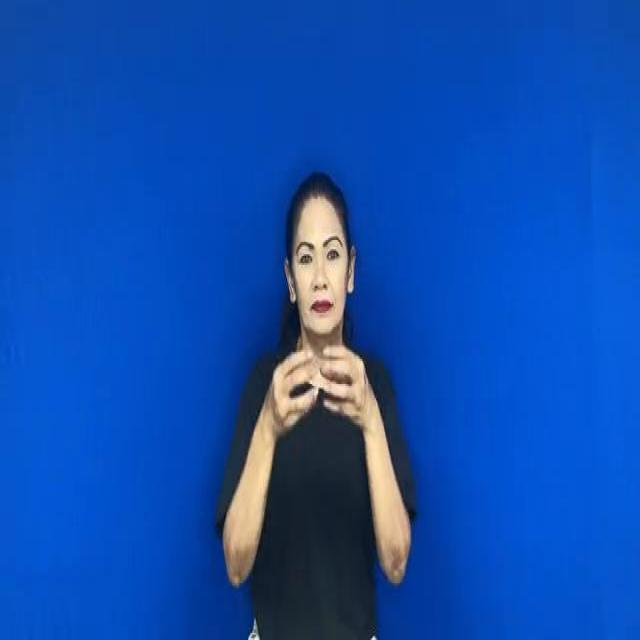egg: (261, 344, 381, 437)
